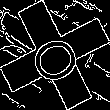O_NE: (23, 24, 87, 86)
